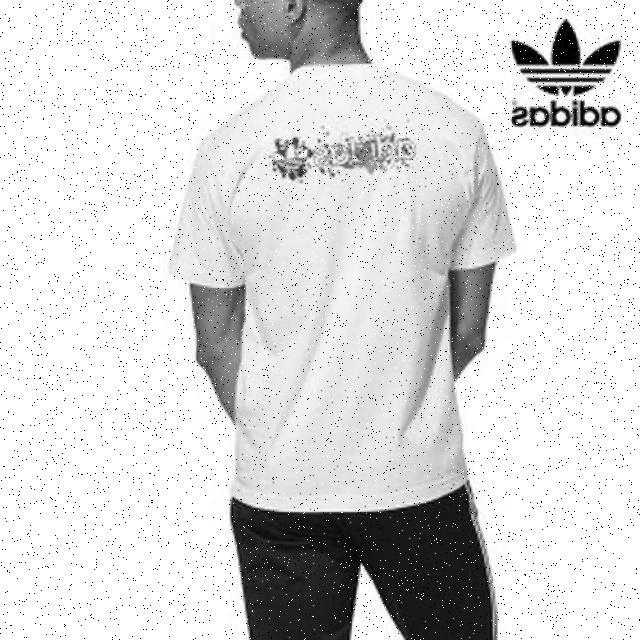Adidas: (502, 5, 635, 99), (266, 137, 314, 187)
